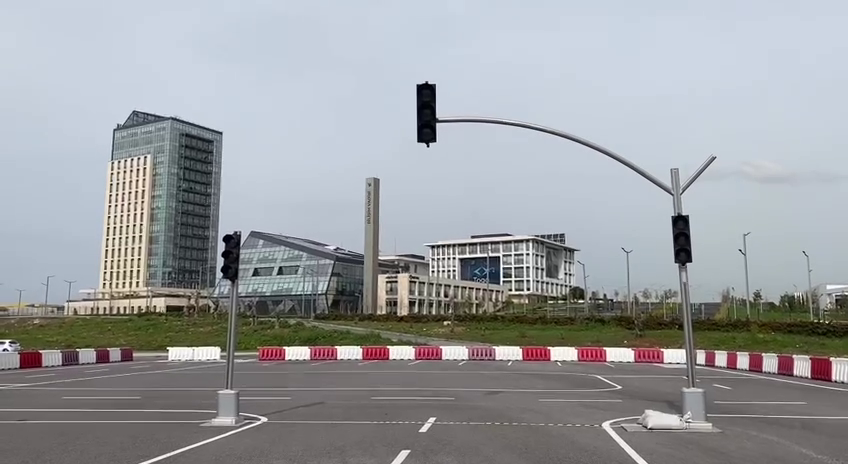trafficLight: (411, 75, 440, 150), (668, 210, 695, 269), (217, 226, 242, 285)
